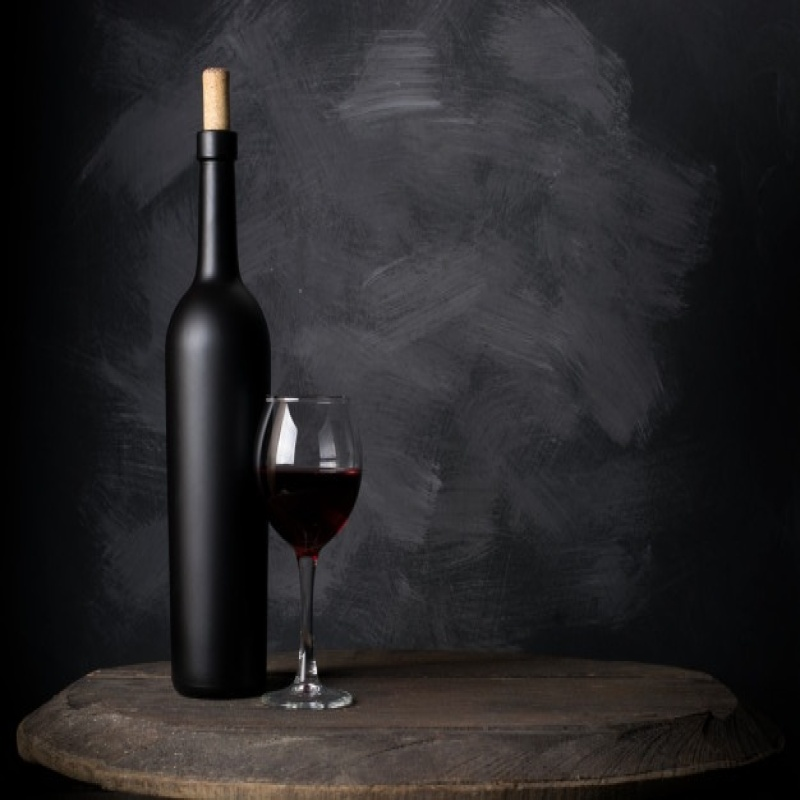wine: (167, 133, 275, 697)
